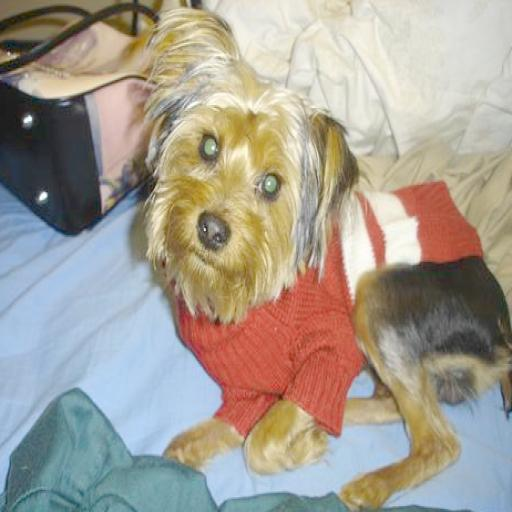dog_face: (152, 36, 339, 290)
